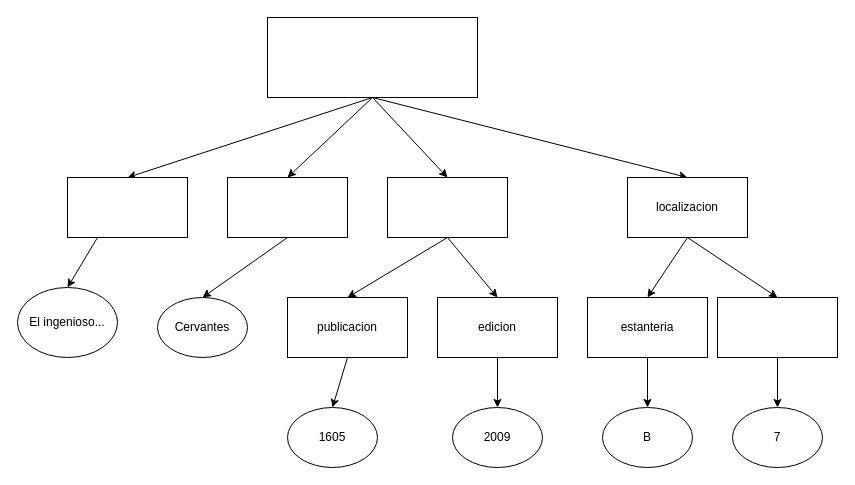
This 855x485 diagram has some shape labels left out. The centre of each missing label's shape, as x and y in pixels:
"autor" belongs at [287,207].
"fecha" belongs at [447,207].
"fila" belongs at [777,327].
"LIBRO" belongs at [372,57].
"titulo" belongs at [127,207].
